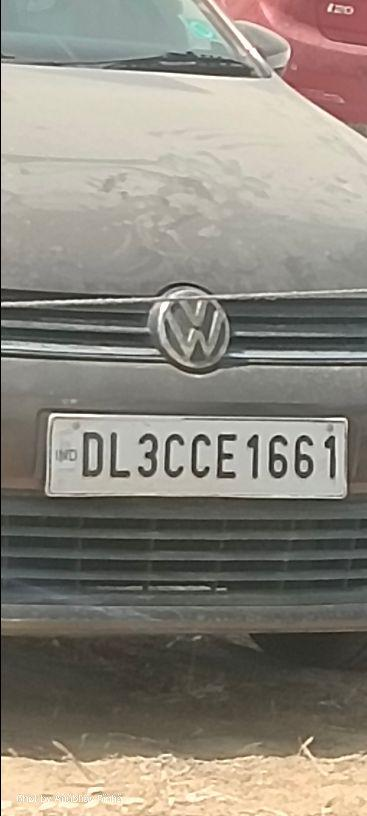license_plate: (43, 410, 349, 500)
